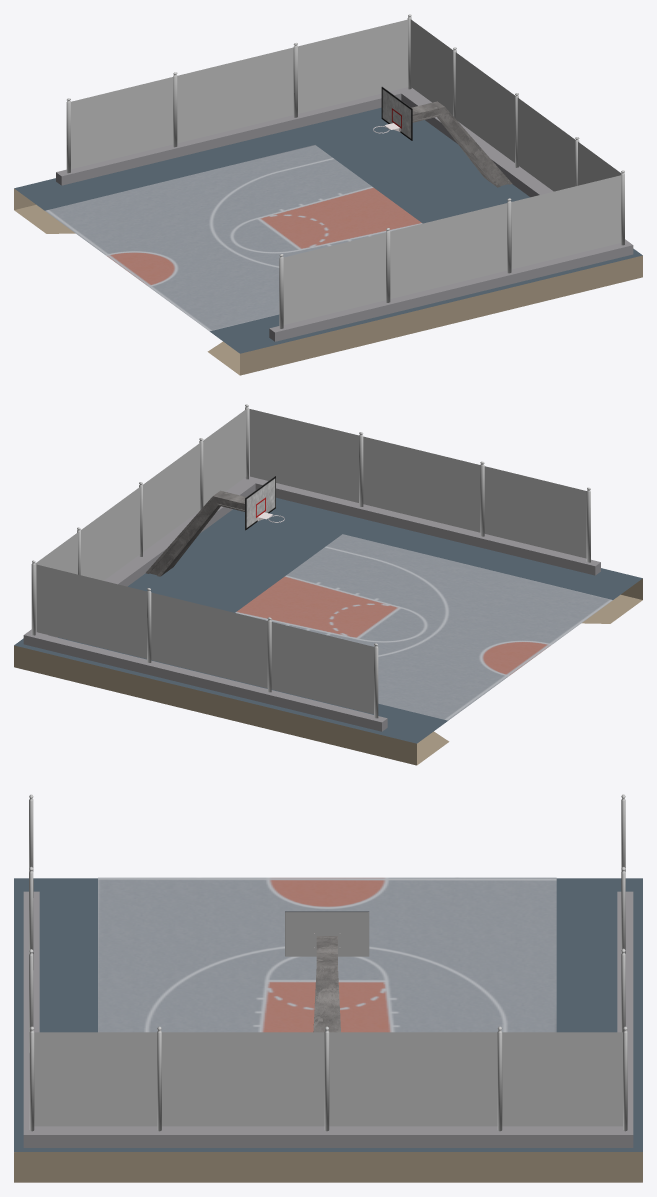
Rendered from beach_court.fbx.
The picture shows the model from 3 angles, top to bottom: view 1: azimuth 30°, elevation 25°; view 2: azimuth 150°, elevation 25°; view 3: azimuth 270°, elevation 25°; orthographic projection. The views are drawn at different scales.
Parts seen in each view (by area): view 1: court, base, fence_bace, fence.022, fence.011, fence.015, fence.006, fence.009, fence.020, fence.026, fence.028, fence.024 (+3 smaller); view 2: court, base, fence_bace, fence.022, fence.011, fence.006, fence.015, fence.009, fence.020, fence.028, fence.026, fence.030 (+3 smaller); view 3: court, base, fence_bace, fence.026, fence.028, fence.030, fence.024, board, pole, fence.027, fence.029, fence.031.
Boxes of the visible parts, box(x1,y1,x2,y2) form: court: box(45, 145, 422, 331); base: box(14, 107, 642, 375); fence_bace: box(56, 87, 633, 341); fence.022: box(390, 203, 507, 298); fence.011: box(177, 47, 293, 143); fence.015: box(511, 175, 621, 269); fence.006: box(298, 19, 408, 113); fence.009: box(71, 77, 173, 169); fence.020: box(283, 232, 385, 324); fence.026: box(455, 52, 514, 162); fence.028: box(517, 98, 575, 191); fence.024: box(410, 19, 452, 115); court: box(235, 534, 612, 720); base: box(14, 497, 642, 765); fence_bace: box(23, 476, 600, 731); fence.022: box(363, 436, 480, 532); fence.011: box(151, 592, 267, 688); fence.006: box(36, 564, 146, 658); fence.015: box(249, 409, 358, 502); fence.009: box(271, 622, 373, 714); fence.020: box(484, 466, 586, 558); fence.028: box(142, 443, 200, 551); fence.026: box(80, 487, 140, 580); fence.030: box(203, 409, 246, 506); court: box(98, 877, 556, 1032); base: box(14, 878, 642, 1182); fence_bace: box(23, 891, 633, 1147); fence.026: box(329, 1032, 497, 1126); fence.028: box(162, 1032, 324, 1126); fence.030: box(34, 1032, 157, 1126); fence.024: box(502, 1032, 622, 1126); board: box(285, 911, 369, 956); pole: box(313, 936, 340, 1032); fence.027: box(497, 1026, 502, 1131); fence.029: box(324, 1026, 329, 1131); fence.031: box(29, 1026, 34, 1131).
Size of the model in its own units: 4469 by 1372 by 4339.
